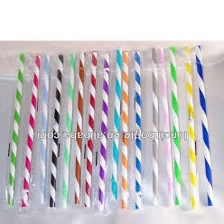drinking_straw: (190, 41, 217, 211), (2, 48, 29, 210), (163, 43, 185, 210), (57, 50, 77, 211), (91, 49, 110, 213), (129, 49, 145, 213)
